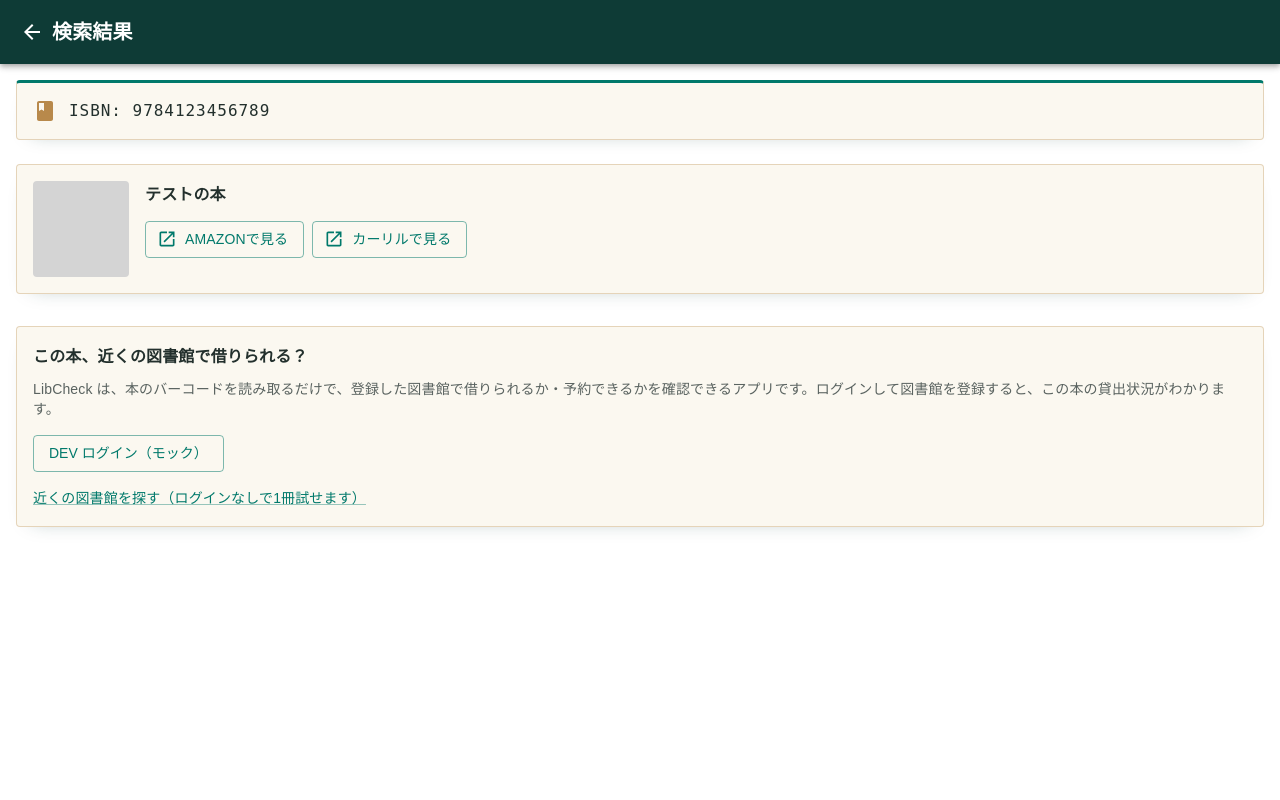
Test case: 未ログインでの表示（#159） › その場でログインすると、同じページで蔵書状況に切り替わる
Click the button "Dev ログイン（モック）".
click(128, 453)  # box [33,435,224,472]
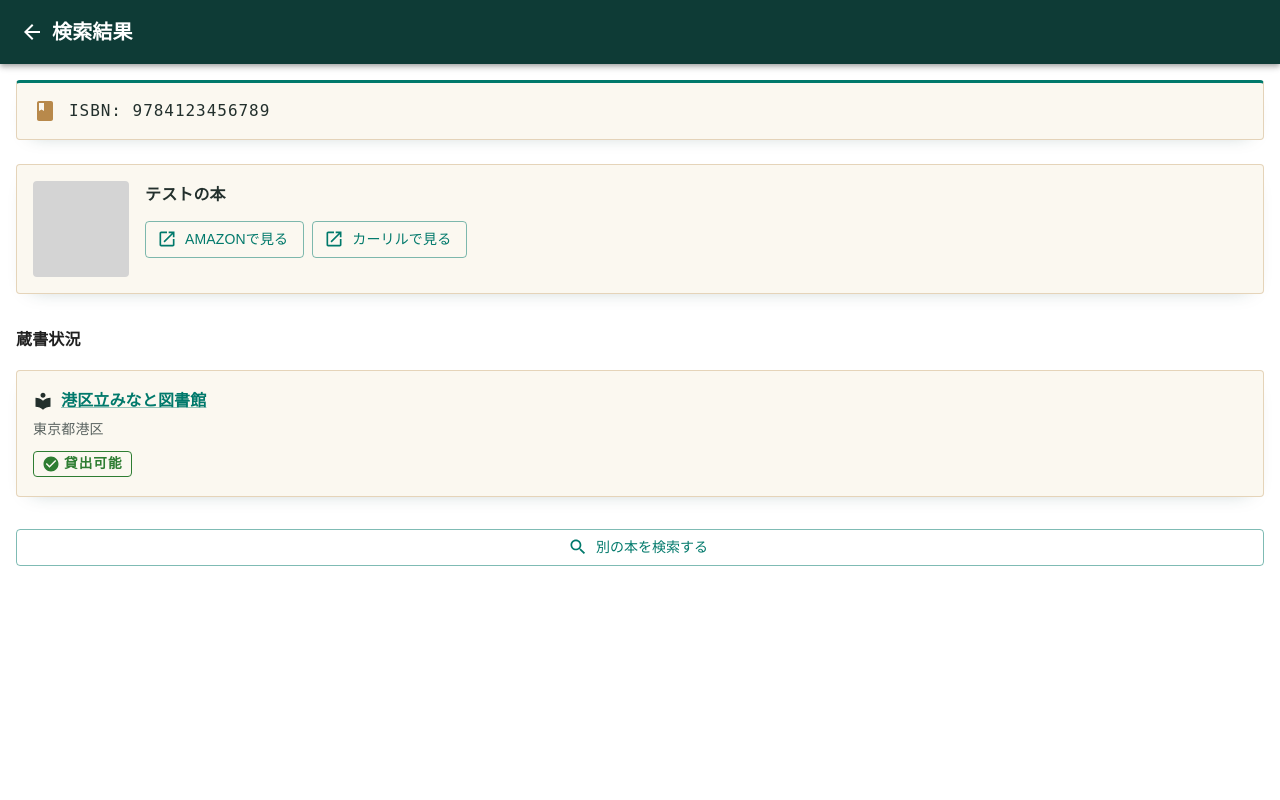
Now the text "貸出可能" is shown, box [64,454,123,474]
Now the link "港区立みなと図書館" is shown, box [61,392,206,409]
